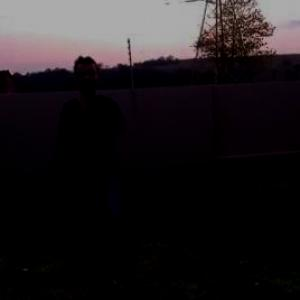takeoff-hand: (88, 92, 118, 125)
